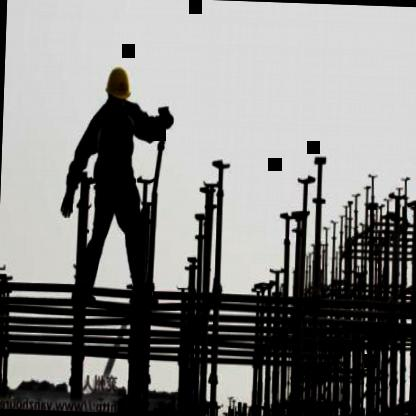helmet: (102, 60, 134, 110)
